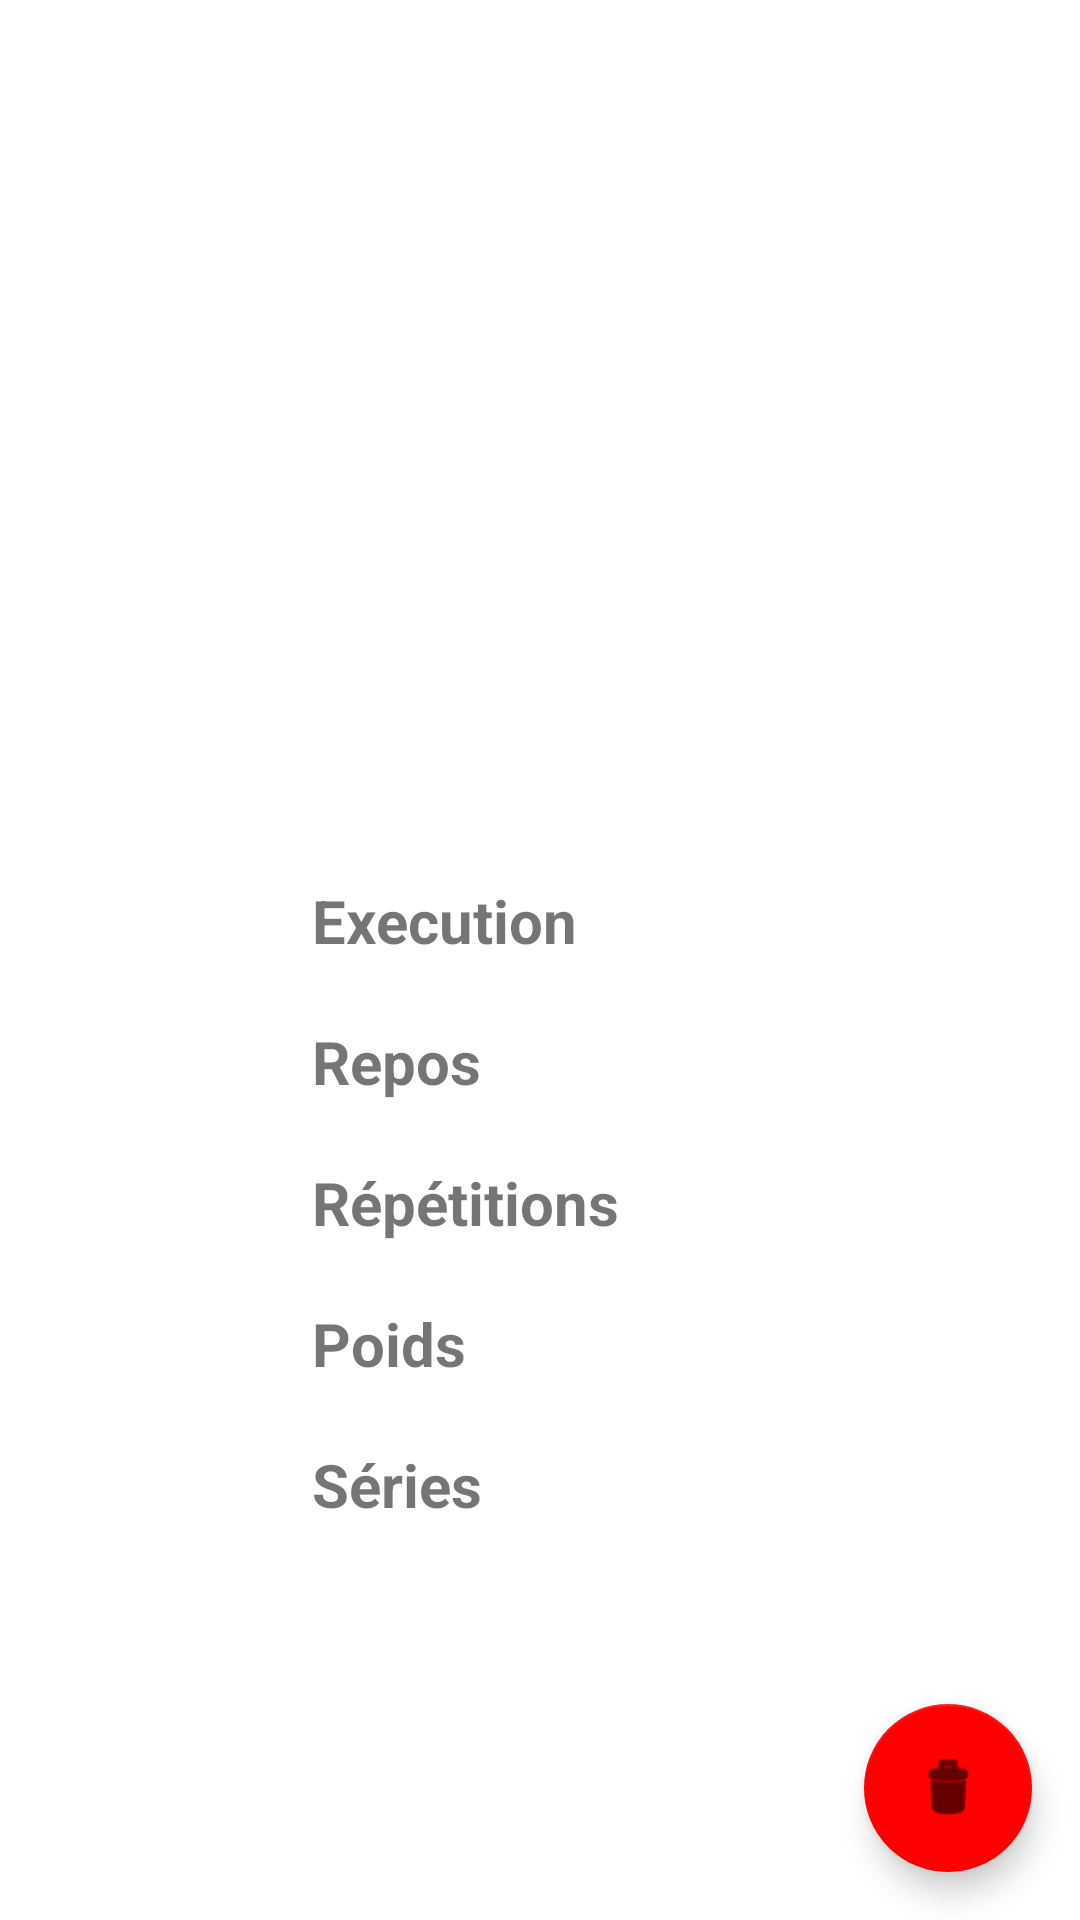

Icon bounding boxes for this 1080px x 1920px phone screenshot, format (x1, y1, x2, y2):
delete: (864, 1704, 1032, 1872)
